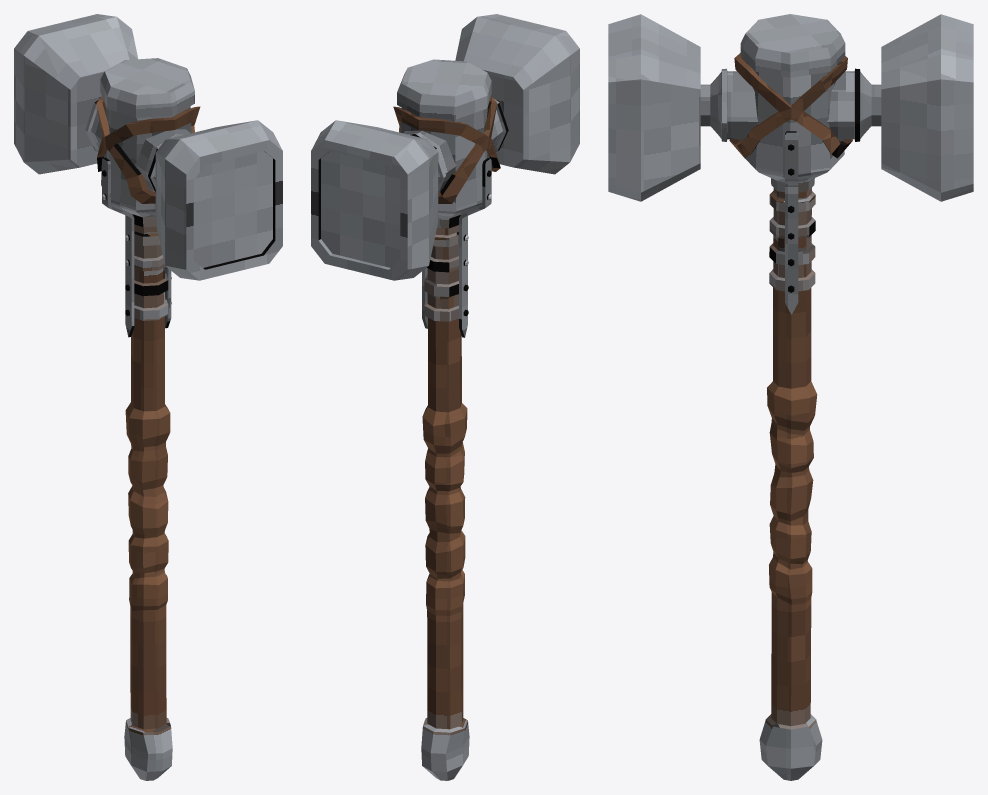
The model's file is hammer_double.glb.
3 views of the same model, side by side, from view 1: azimuth 30°, elevation 25°; view 2: azimuth 150°, elevation 25°; view 3: azimuth 270°, elevation 25° (orthographic). The views are drawn at different scales.
Parts seen in each view (by area): view 1: Hammer_Double; view 2: Hammer_Double; view 3: Hammer_Double.
Part boxes in pixels (bbox=[...]): Hammer_Double: bbox=[14, 14, 282, 780]; Hammer_Double: bbox=[311, 14, 579, 780]; Hammer_Double: bbox=[608, 14, 973, 780].
Size of the model in its own units: 0.1459 by 0.9 by 0.4014.
Materials: 1 (1 with a texture image).
